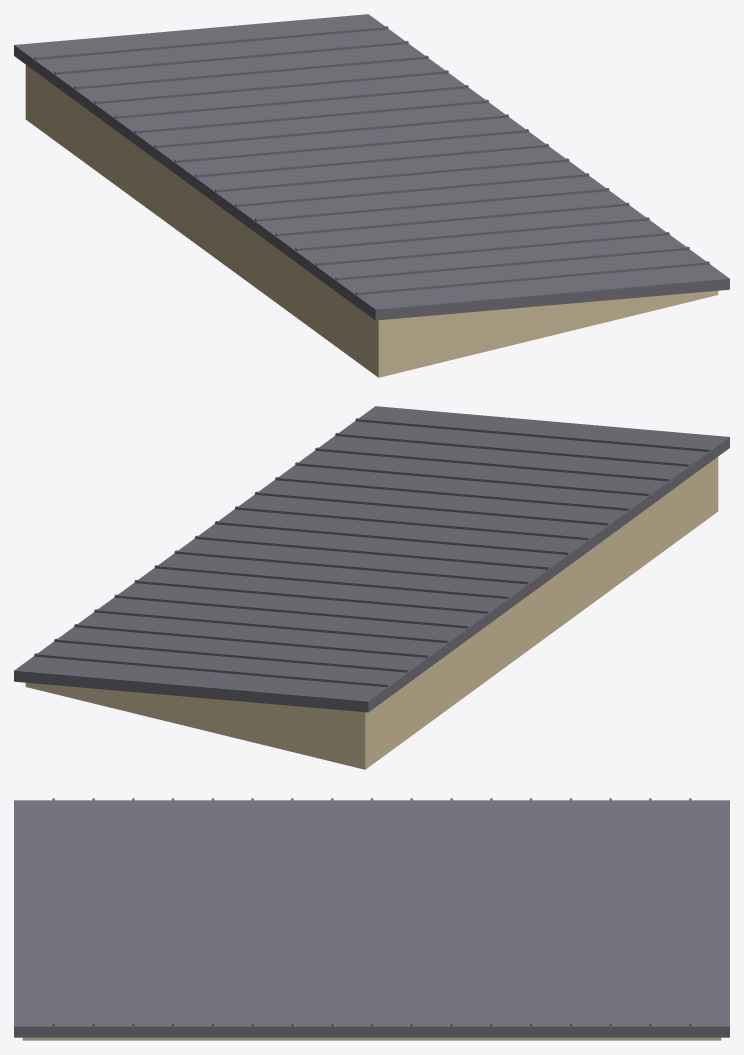
Rendered from SM_Roof_NarrowShedRight_Yellow_455_01.gltf.
3 renders of one model, top to bottom at view 1: azimuth 30°, elevation 25°; view 2: azimuth 150°, elevation 25°; view 3: azimuth 270°, elevation 25°, orthographic.
Visible parts, largest first — view 1: SM_Roof_NarrowShedRight_Yellow_455_01; view 2: SM_Roof_NarrowShedRight_Yellow_455_01; view 3: SM_Roof_NarrowShedRight_Yellow_455_01.
Part boxes in pixels (bbox=[...]): SM_Roof_NarrowShedRight_Yellow_455_01: bbox=[14, 14, 729, 377]; SM_Roof_NarrowShedRight_Yellow_455_01: bbox=[14, 406, 729, 769]; SM_Roof_NarrowShedRight_Yellow_455_01: bbox=[14, 798, 729, 1040].
Bounding box in the file's own units: 4.75 × 0.966 × 8.39.
Materials: 1 (1 with a texture image).
